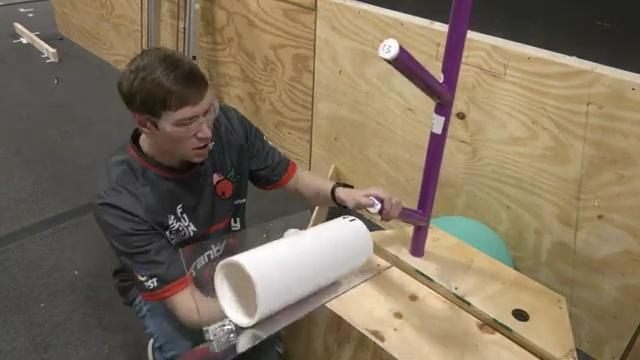CORAL: (212, 213, 374, 328)
